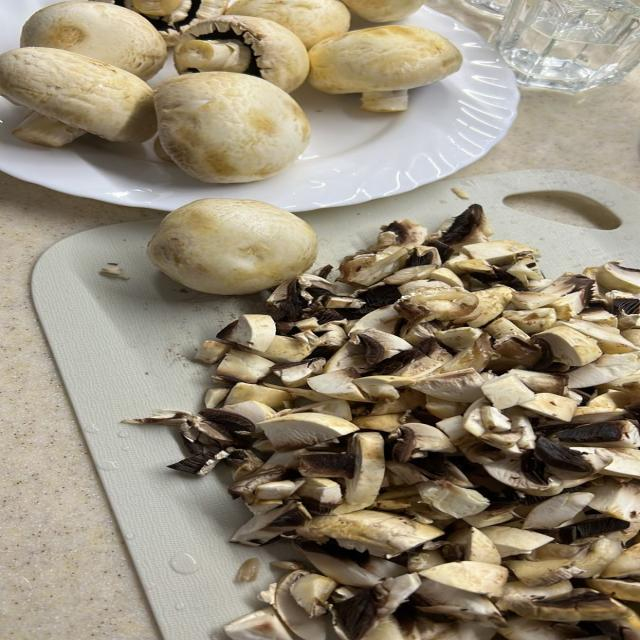champignon mushrooms: (141, 206, 639, 639), (154, 72, 310, 182), (147, 199, 317, 294), (0, 47, 156, 146), (309, 26, 461, 111), (20, 0, 166, 79), (174, 15, 309, 92), (93, 0, 228, 46), (228, 0, 350, 48), (344, 0, 421, 22)
